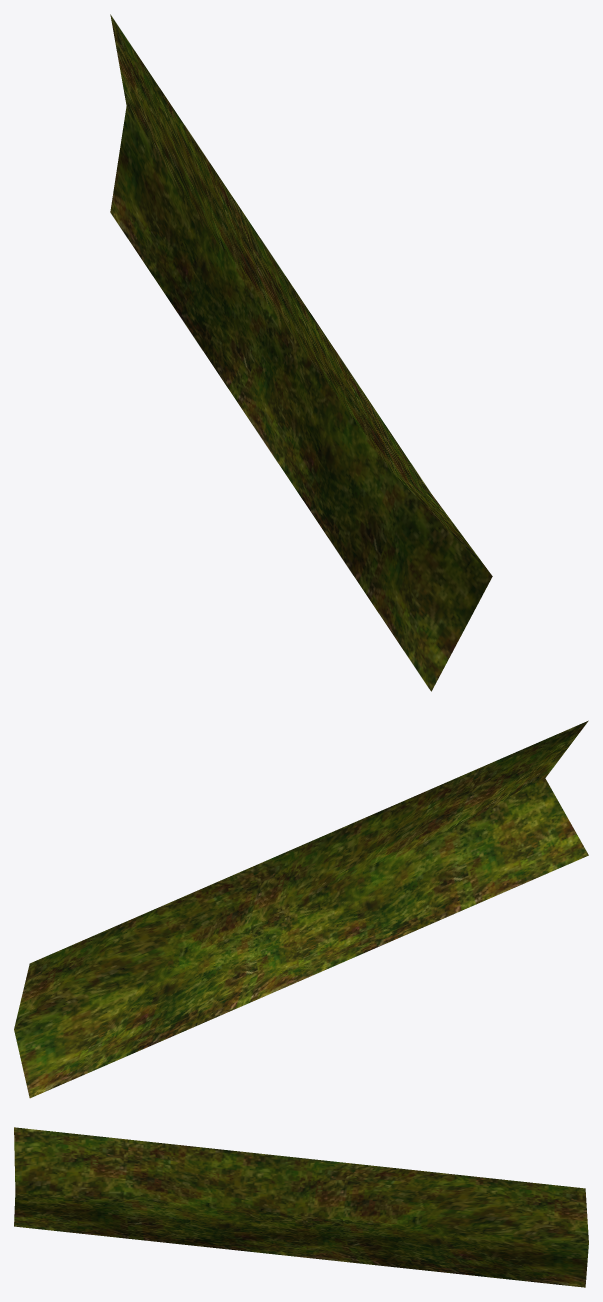
The model's file is TROLLHOLE02_RM_PSURF112.fbx.
3 views of the same model, one above another, from view 1: azimuth 30°, elevation 25°; view 2: azimuth 150°, elevation 25°; view 3: azimuth 270°, elevation 25° (orthographic). The views are drawn at different scales.
Visible parts, largest first — view 1: TROLLHOLE02_RM_PSURF112; view 2: TROLLHOLE02_RM_PSURF112; view 3: TROLLHOLE02_RM_PSURF112.
Part boxes in pixels (<box>): TROLLHOLE02_RM_PSURF112: <box>110,14,492,691</box>; TROLLHOLE02_RM_PSURF112: <box>14,720,588,1098</box>; TROLLHOLE02_RM_PSURF112: <box>14,1127,588,1287</box>.
Bounding box in the file's own units: 14248 × 10000 × 52519.
Materials: 1 (1 with a texture image).
